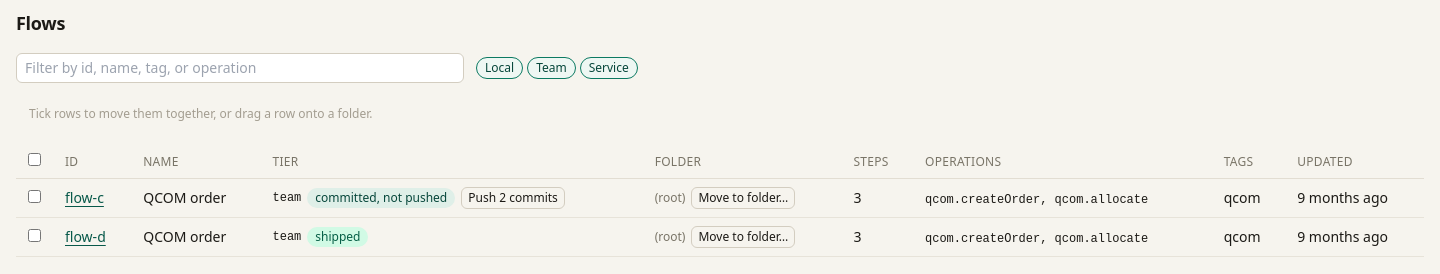
Scenario: FlowsPage › shows a Push button only next to an unpushed row; pushing updates the repo store and reloads the row
Expected: the link "flow-c" is shown, [65,188,104,207]
What coordinates should you click on to do the following:
click the button "Push 2 commits"
I would click on:
 (513, 198)
Its box is [461,187,565,209].
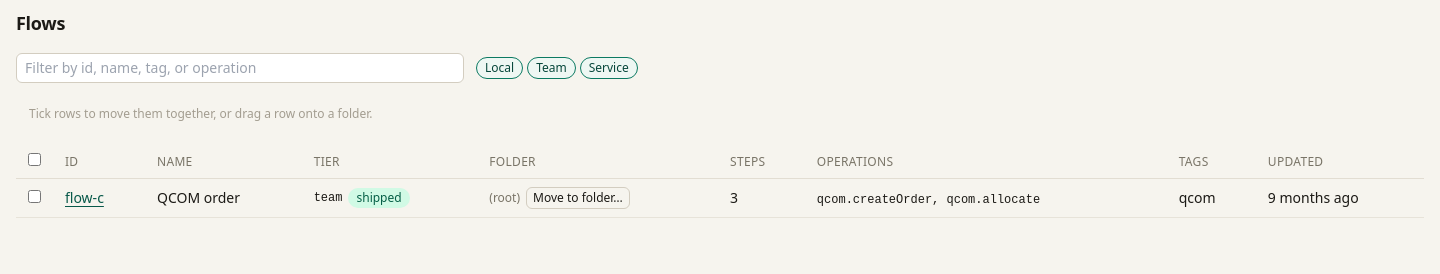
Now the text "push" is gone
